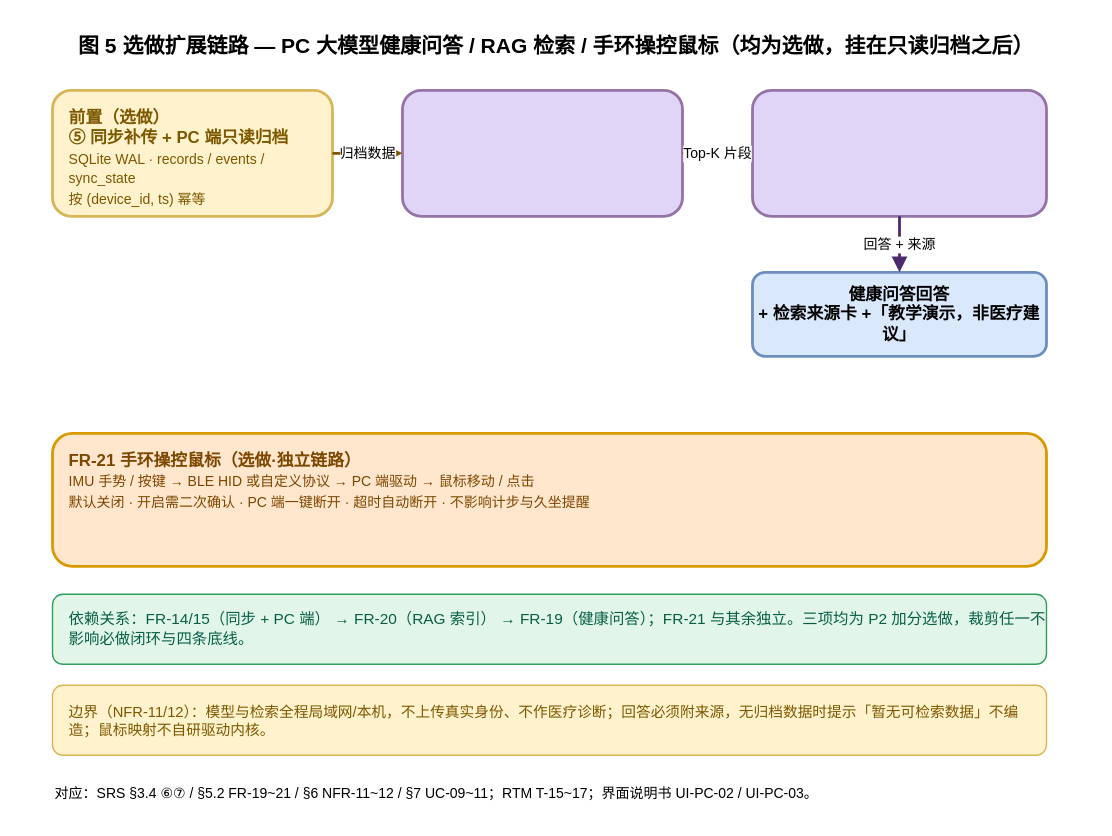
The diagram is 1112 pixels wide and 836 high, and some of its shapes have lost their labels. The shapes that lost their labels are listed below. From the top down, each one's box as (x1, y1, x2, y2) in pixels, then its label:
(400, 88, 683, 217): FR-20 RAG 检索（选做） 语料＝PC 端已归档数据 切片 → 本地索引 → Top-K 来源可追溯到 (device_id, ts)
(750, 88, 1047, 217): FR-19 本地大模型（选做） 问题 + 检索片段 → Prompt 本地/局域网推理，不出公网 模型选型（待补充）
